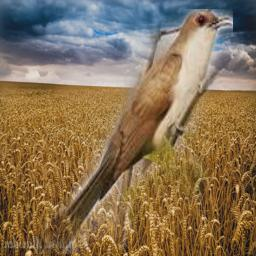Cuckoo: (34, 9, 233, 254)
